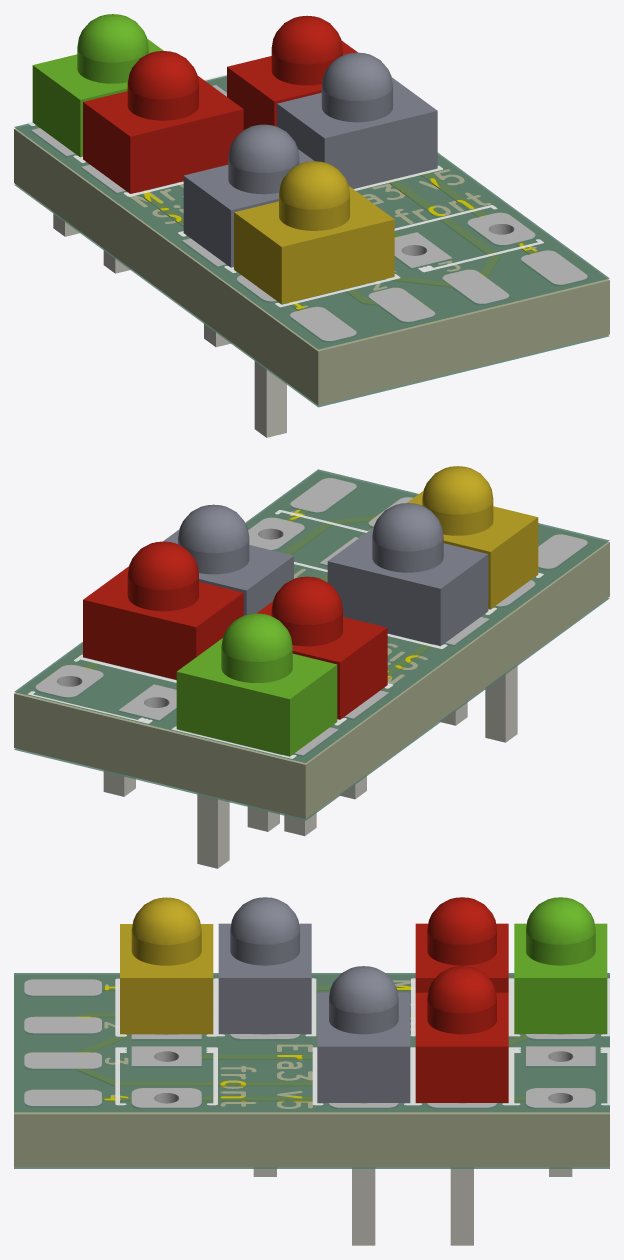
File: MrJ-DB-Era3-prod-exit-off.glb
3 views of the same model, one above another, from view 1: azimuth 30°, elevation 25°; view 2: azimuth 150°, elevation 25°; view 3: azimuth 270°, elevation 25° (orthographic). The views are drawn at different scales.
Visible parts, largest first — view 1: =>[0:1:1:15], =>[0:1:1:3] (×2), =>[0:1:1:9] (×2), =>[0:1:1:13], =>[0:1:1:7], =>[0:1:1:11], =>[0:1:1:5], =>[0:1:1:10], =>[0:1:1:12], =>[0:1:1:14]; view 2: =>[0:1:1:15], =>[0:1:1:3] (×2), =>[0:1:1:9] (×2), =>[0:1:1:5], =>[0:1:1:13], =>[0:1:1:7], =>[0:1:1:11], =>[0:1:1:12], =>[0:1:1:14], =>[0:1:1:10]; view 3: =>[0:1:1:15], =>[0:1:1:13], =>[0:1:1:9] (×2), =>[0:1:1:3] (×2), =>[0:1:1:11], =>[0:1:1:5], =>[0:1:1:7], =>[0:1:1:12], =>[0:1:1:10], =>[0:1:1:14].
Boxes of the visible parts, bbox=[...] form: =>[0:1:1:15]: bbox=[14, 77, 609, 405]; =>[0:1:1:3] (×2): bbox=[83, 15, 357, 273]; =>[0:1:1:9] (×2): bbox=[183, 52, 437, 347]; =>[0:1:1:13]: bbox=[14, 75, 609, 349]; =>[0:1:1:7]: bbox=[234, 161, 394, 437]; =>[0:1:1:11]: bbox=[31, 85, 587, 341]; =>[0:1:1:5]: bbox=[32, 14, 163, 236]; =>[0:1:1:10]: bbox=[140, 173, 537, 310]; =>[0:1:1:12]: bbox=[27, 74, 543, 307]; =>[0:1:1:14]: bbox=[14, 184, 609, 407]; =>[0:1:1:15]: bbox=[14, 471, 609, 818]; =>[0:1:1:3] (×2): bbox=[83, 541, 387, 831]; =>[0:1:1:9] (×2): bbox=[163, 503, 488, 725]; =>[0:1:1:5]: bbox=[176, 613, 337, 868]; =>[0:1:1:13]: bbox=[14, 469, 609, 762]; =>[0:1:1:7]: bbox=[407, 466, 538, 742]; =>[0:1:1:11]: bbox=[35, 478, 587, 756]; =>[0:1:1:12]: bbox=[28, 510, 543, 758]; =>[0:1:1:14]: bbox=[14, 598, 609, 820]; =>[0:1:1:10]: bbox=[84, 509, 538, 678]; =>[0:1:1:15]: bbox=[14, 975, 609, 1167]; =>[0:1:1:13]: bbox=[14, 973, 609, 1112]; =>[0:1:1:9] (×2): bbox=[218, 897, 410, 1245]; =>[0:1:1:3] (×2): bbox=[415, 897, 508, 1245]; =>[0:1:1:11]: bbox=[24, 979, 595, 1108]; =>[0:1:1:5]: bbox=[514, 897, 607, 1176]; =>[0:1:1:7]: bbox=[120, 897, 213, 1034]; =>[0:1:1:12]: bbox=[115, 978, 609, 1105]; =>[0:1:1:10]: bbox=[76, 986, 528, 1101]; =>[0:1:1:14]: bbox=[14, 1167, 609, 1168].
Size of the model in its own units: 0.00851 by 0.0071 by 0.0154.
